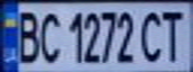1: (63, 7, 84, 64)
2: (115, 7, 139, 63), (81, 7, 103, 64)
7: (100, 7, 121, 63)
B: (9, 7, 42, 64)
C: (136, 7, 166, 63), (36, 8, 63, 64)
T: (157, 6, 190, 64)
